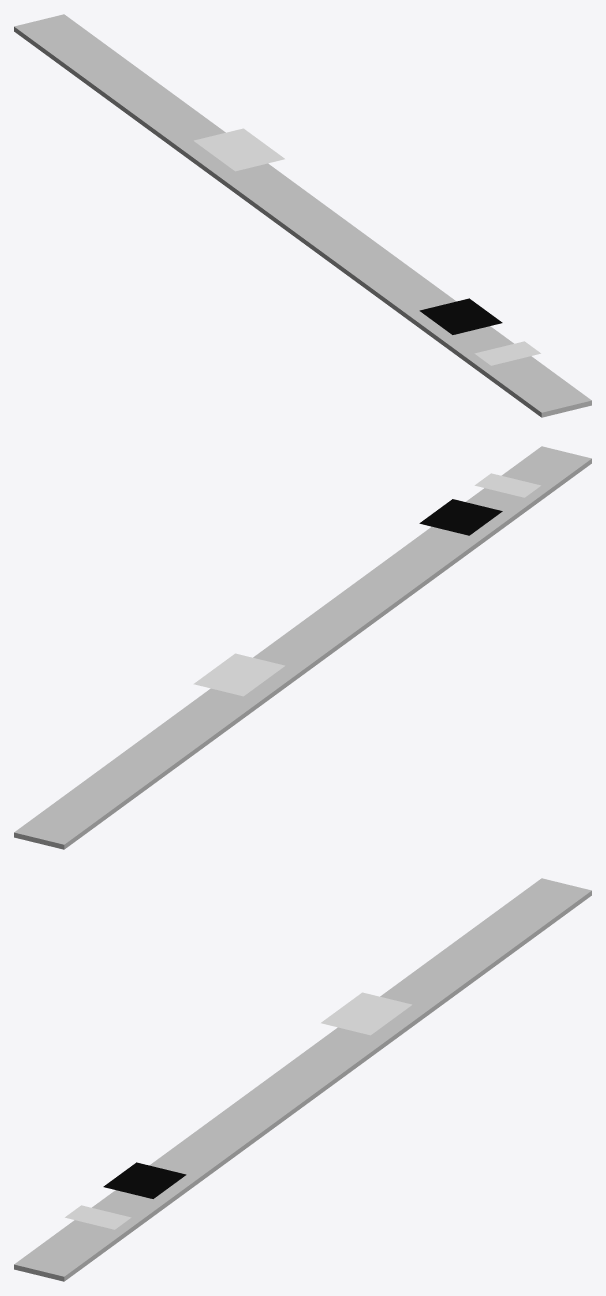
File: lane.fbx
The picture shows the model from 3 angles, top to bottom: view 1: azimuth 30°, elevation 25°; view 2: azimuth 150°, elevation 25°; view 3: azimuth 330°, elevation 25°; orthographic projection.
Visible parts, largest first — view 1: Lane, Downlane Stripes, Arrows Area, Dots Area; view 2: Lane, Downlane Stripes, Arrows Area, Dots Area; view 3: Lane, Downlane Stripes, Arrows Area, Dots Area.
Part boxes in pixels (bbox=[...]): Lane: bbox=[14, 14, 591, 417]; Downlane Stripes: bbox=[194, 128, 284, 171]; Arrows Area: bbox=[419, 298, 502, 334]; Dots Area: bbox=[474, 341, 540, 365]; Lane: bbox=[14, 446, 591, 849]; Downlane Stripes: bbox=[193, 653, 284, 696]; Arrows Area: bbox=[419, 499, 502, 535]; Dots Area: bbox=[474, 473, 540, 497]; Lane: bbox=[14, 878, 591, 1281]; Downlane Stripes: bbox=[321, 992, 411, 1035]; Arrows Area: bbox=[103, 1162, 186, 1198]; Dots Area: bbox=[65, 1205, 131, 1229].
Bounding box in the file's own units: 105 × 44.19 × 1916.
